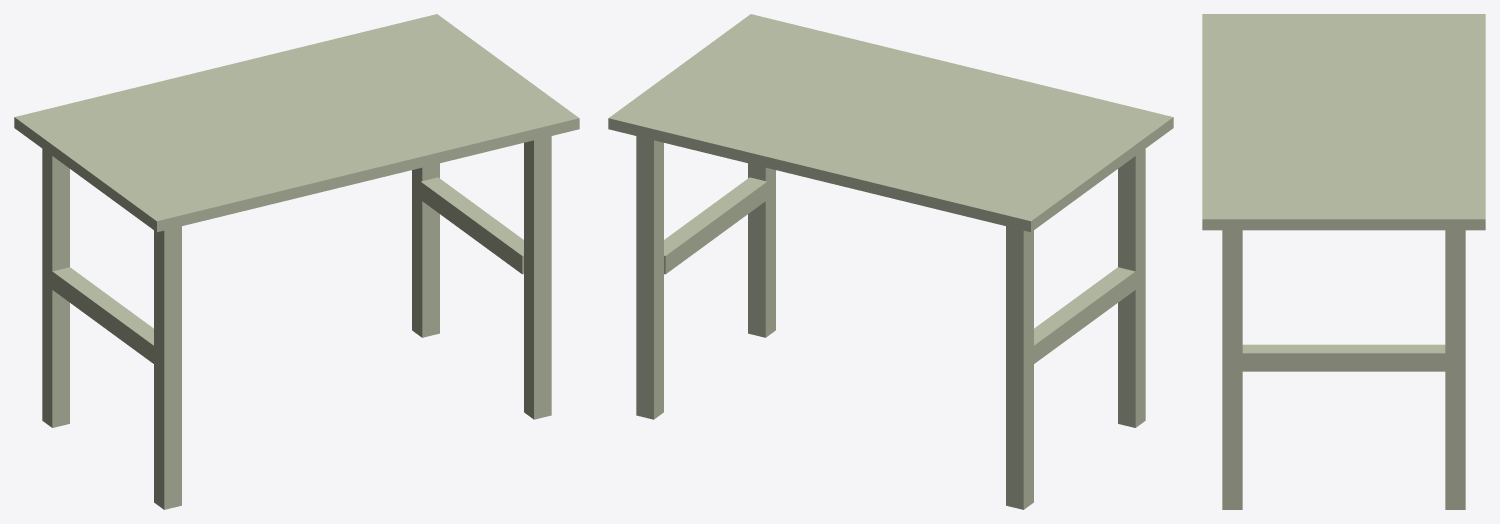
Rendered from Mesa.glb.
3 renders of one model, left to right at view 1: azimuth 30°, elevation 25°; view 2: azimuth 150°, elevation 25°; view 3: azimuth 270°, elevation 25°, orthographic.
Visible parts, largest first — view 1: Cube, Cube.006, Cube.008, Cube.003, Cube.007, Cube.002, Cube.001; view 2: Cube, Cube.003, Cube.007, Cube.006, Cube.008, Cube.002, Cube.001; view 3: Cube, Cube.007, Cube.008, Cube.002.
Part boxes in pixels (box(x1,y1,x2,y2)): Cube: box(14, 14, 579, 232); Cube.006: box(154, 226, 181, 509); Cube.008: box(524, 136, 551, 419); Cube.003: box(42, 149, 69, 427); Cube.007: box(412, 163, 439, 337); Cube.002: box(420, 177, 523, 274); Cube.001: box(52, 267, 153, 363); Cube: box(608, 14, 1173, 232); Cube.003: box(1006, 226, 1033, 509); Cube.007: box(636, 136, 663, 419); Cube.006: box(1118, 149, 1145, 427); Cube.008: box(748, 163, 775, 337); Cube.002: box(664, 177, 767, 274); Cube.001: box(1034, 267, 1135, 363); Cube: box(1202, 14, 1485, 230); Cube.007: box(1445, 230, 1465, 509); Cube.008: box(1222, 230, 1242, 509); Cube.002: box(1242, 344, 1445, 371).
Bounding box in the file's own units: 1.2 × 0.815 × 0.7.
